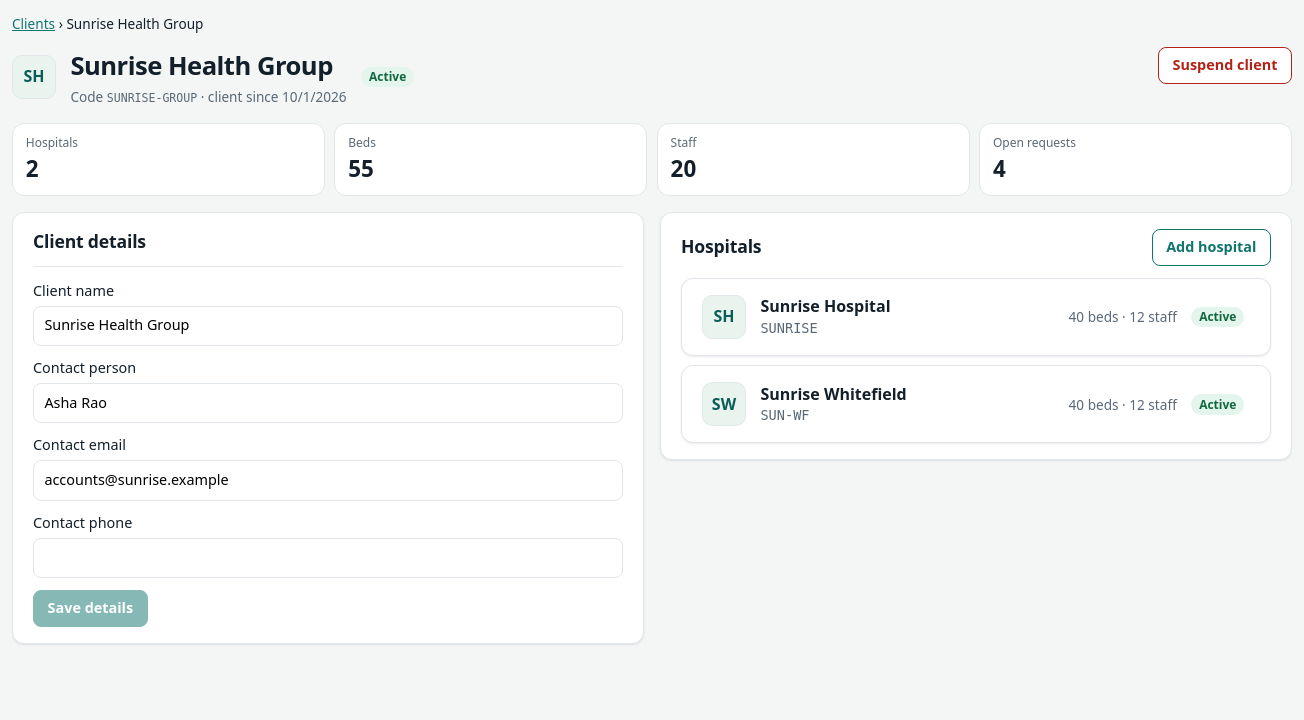
Platform administration › suspends a client and all its hospitals after confirmation
The image size is (1304, 720).
Expected: the link "SW Sunrise Whitefield SUN-WF 40 beds · 12 staff active" is shown, [681,366,1271,444]
Click the button "Suspend client". click: coordinates (1225, 66)
box: [1158,47,1292,84]
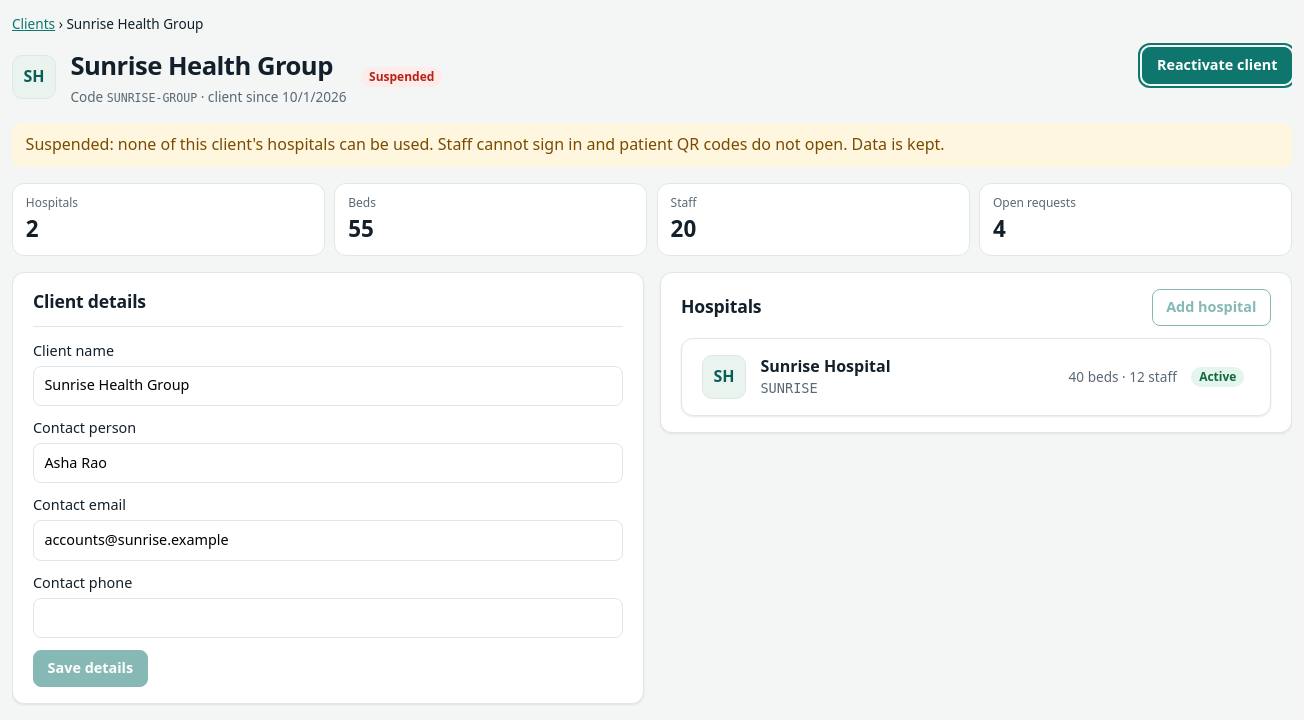
Result: the button "Reactivate client" is shown at [1142,47,1292,84]
